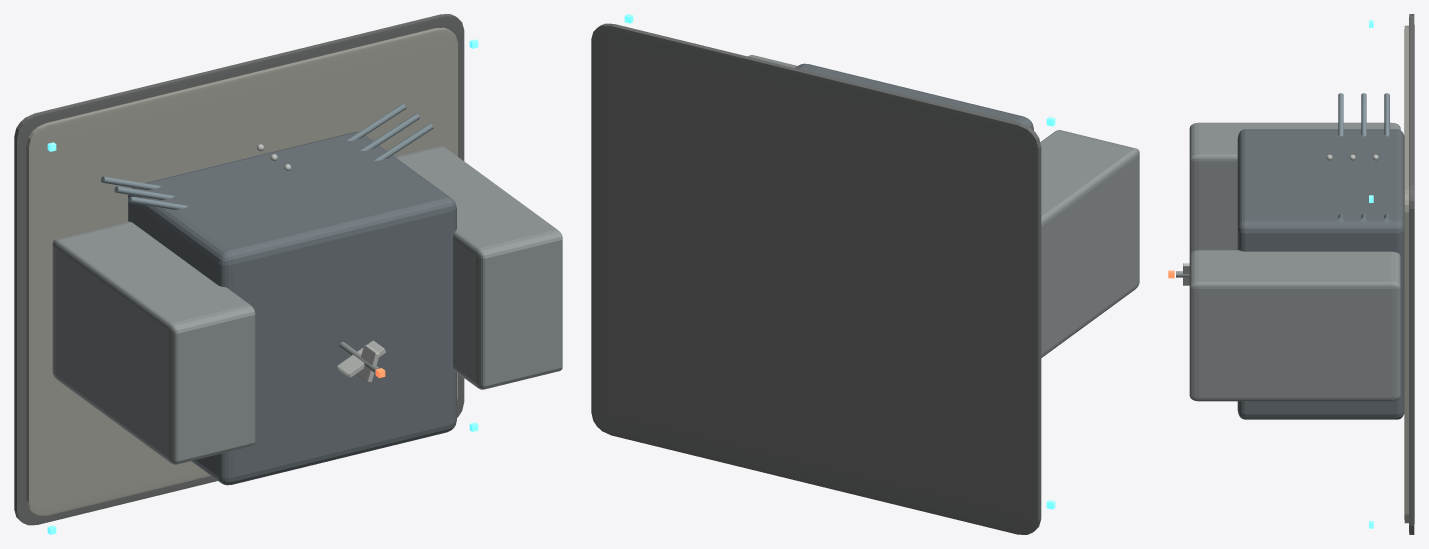
File: b-26-cyber-lab-lod2.glb
The picture shows the model from 3 angles, left to right: view 1: azimuth 30°, elevation 25°; view 2: azimuth 150°, elevation 25°; view 3: azimuth 270°, elevation 25°; orthographic projection. The views are drawn at different scales.
Visible parts, largest first — view 1: primary_data_cube, foundation_inner_pad, server_cooling_tower_-5.5, server_cooling_tower_5.5, foundation; view 2: foundation, server_cooling_tower_-5.5, primary_data_cube; view 3: server_cooling_tower_5.5, primary_data_cube, server_cooling_tower_-5.5, foundation, foundation_inner_pad.
Boxes of the visible parts, x1,y1,x2,y2 form: primary_data_cube: (128,132,456,485); foundation_inner_pad: (26,27,457,515); server_cooling_tower_-5.5: (52,221,255,464); server_cooling_tower_5.5: (395,145,562,389); foundation: (14,14,464,525); foundation: (591,23,1041,534); server_cooling_tower_-5.5: (1040,130,1139,357); primary_data_cube: (795,63,1033,130); server_cooling_tower_5.5: (1189,250,1400,401); primary_data_cube: (1237,129,1404,419); server_cooling_tower_-5.5: (1189,122,1400,254); foundation: (1409,14,1414,534); foundation_inner_pad: (1404,25,1408,523).
Size of what is drawn, in the model's own units: 16 by 14 by 8.97.
